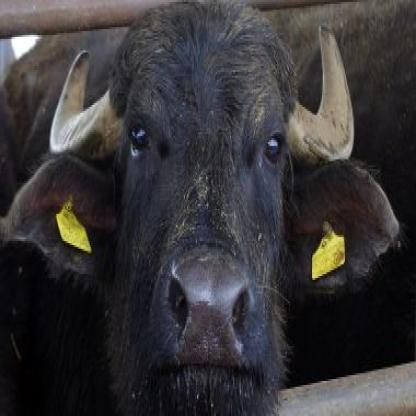buffalo: (25, 34, 376, 416)
